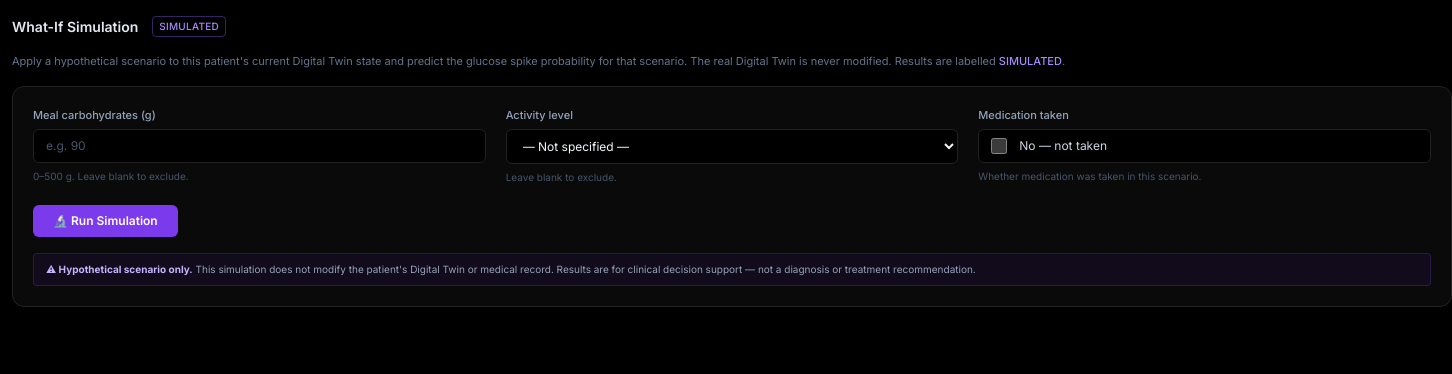
Test case: WhatIfSimulationPanel › shows carbs validation error for value over 500
The image size is (1452, 374).
Type "501" into the number field labelled "Meal carbohydrates (g)" at coordinates (259, 146), box top-left (33, 129), bottom-right (486, 163)
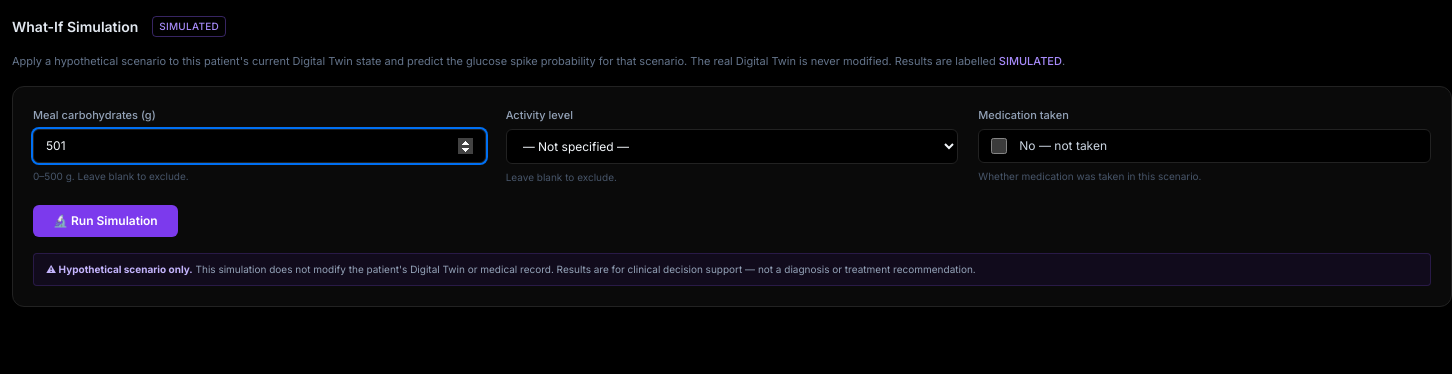
Click the button with test id "run-simulation-button" at coordinates (105, 221), box top-left (33, 205), bottom-right (178, 237)
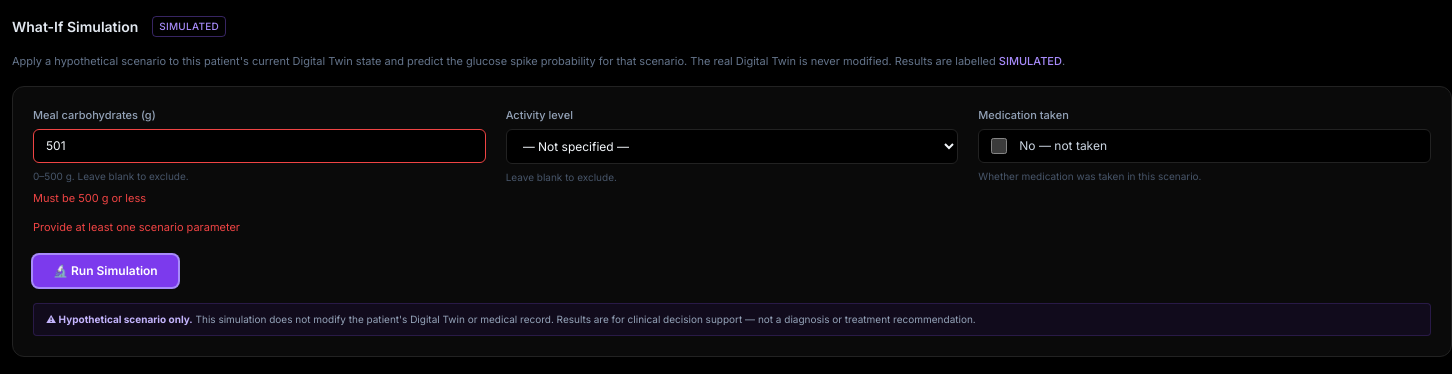
Expected: the message with test id "carbs-error" shows "500", top-left (33, 191), bottom-right (146, 205)
